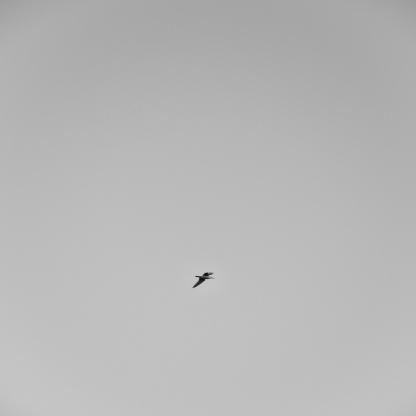bird: (192, 272, 215, 289)
